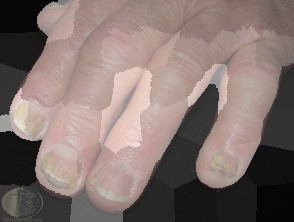Nail_psoriasis: (32, 143, 89, 196), (84, 159, 144, 207), (6, 92, 54, 142), (202, 145, 242, 188)
